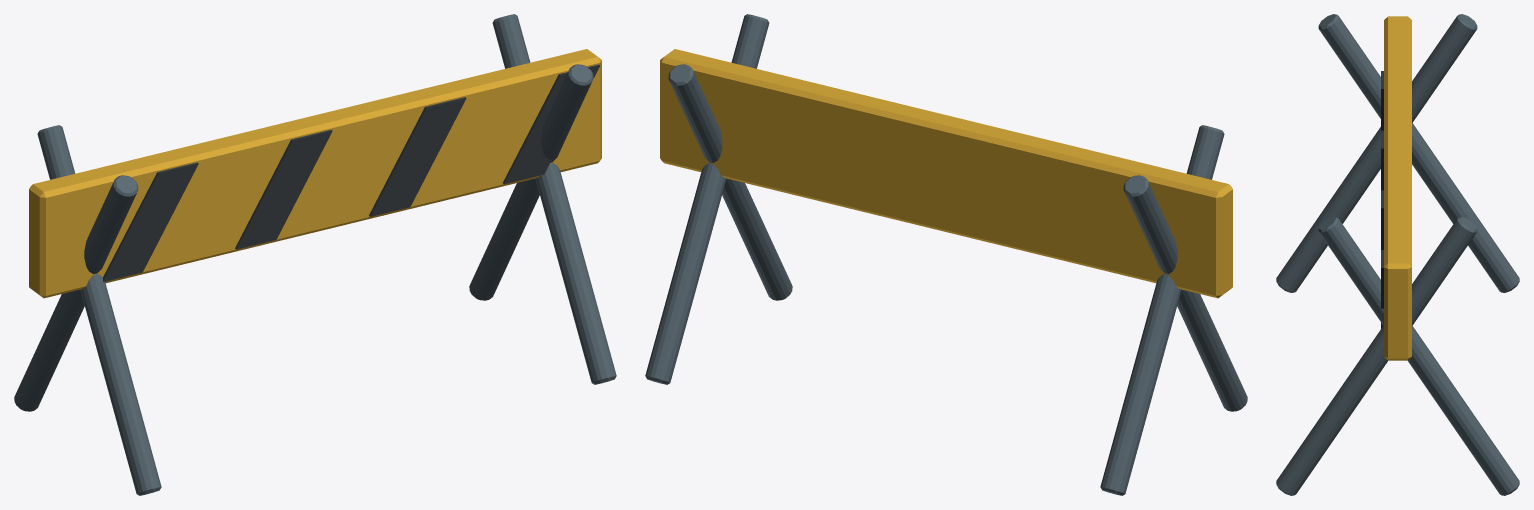
The model's file is BH_Barricade_Metal.glb.
3 views of the same model, side by side, from view 1: azimuth 30°, elevation 25°; view 2: azimuth 150°, elevation 25°; view 3: azimuth 270°, elevation 25° (orthographic). The views are drawn at different scales.
Visible parts, largest first — view 1: BH_Barricade_Metal_RenderMesh; view 2: BH_Barricade_Metal_RenderMesh; view 3: BH_Barricade_Metal_RenderMesh.
Boxes of the visible parts, x1,y1,x2,y2 form: BH_Barricade_Metal_RenderMesh: [14, 14, 616, 495]; BH_Barricade_Metal_RenderMesh: [645, 14, 1247, 495]; BH_Barricade_Metal_RenderMesh: [1276, 14, 1519, 495].
Size of what is drawn, in the model's own units: 2.1 by 1.08 by 0.8626.
